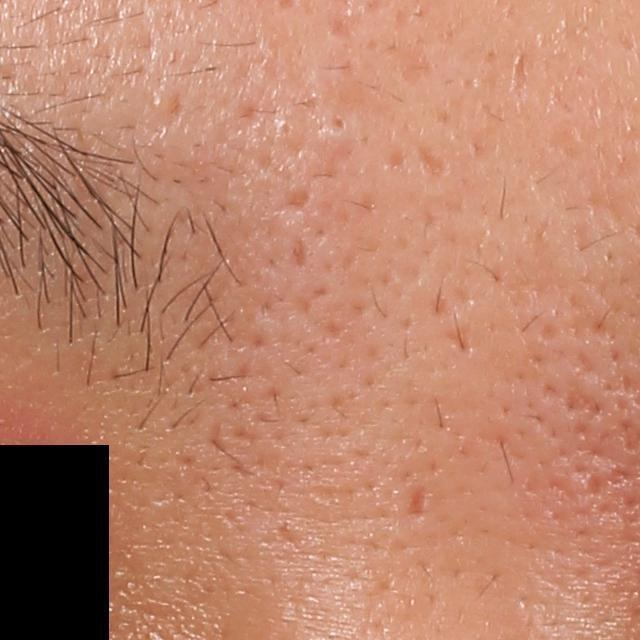atrophic_scar: (384, 32, 434, 83), (505, 44, 528, 101), (403, 484, 430, 519), (291, 234, 307, 273), (283, 188, 312, 208)
comedo: (270, 119, 298, 142), (331, 112, 352, 135)
